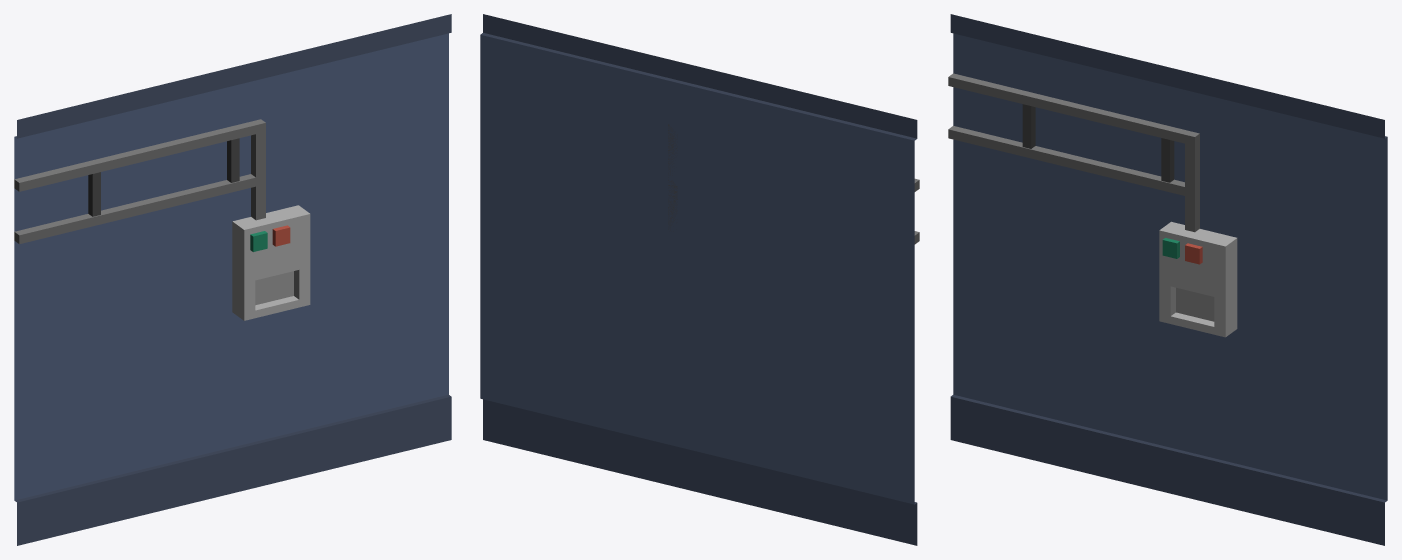
Rendered from AI_Env_Wall_Blue_Electronics_End.fbx.
3 renders of one model, left to right at view 1: azimuth 30°, elevation 25°; view 2: azimuth 150°, elevation 25°; view 3: azimuth 330°, elevation 25°, orthographic.
Parts seen in each view (by area): view 1: AI_Env_Wall_Blue_Electronics_End; view 2: AI_Env_Wall_Blue_Electronics_End; view 3: AI_Env_Wall_Blue_Electronics_End.
Part boxes in pixels (x1,y1,x2,y2): AI_Env_Wall_Blue_Electronics_End: [14, 14, 451, 545]; AI_Env_Wall_Blue_Electronics_End: [480, 14, 919, 545]; AI_Env_Wall_Blue_Electronics_End: [948, 14, 1387, 545].
Size of the model in its own units: 5 by 4.69 by 0.2941.
